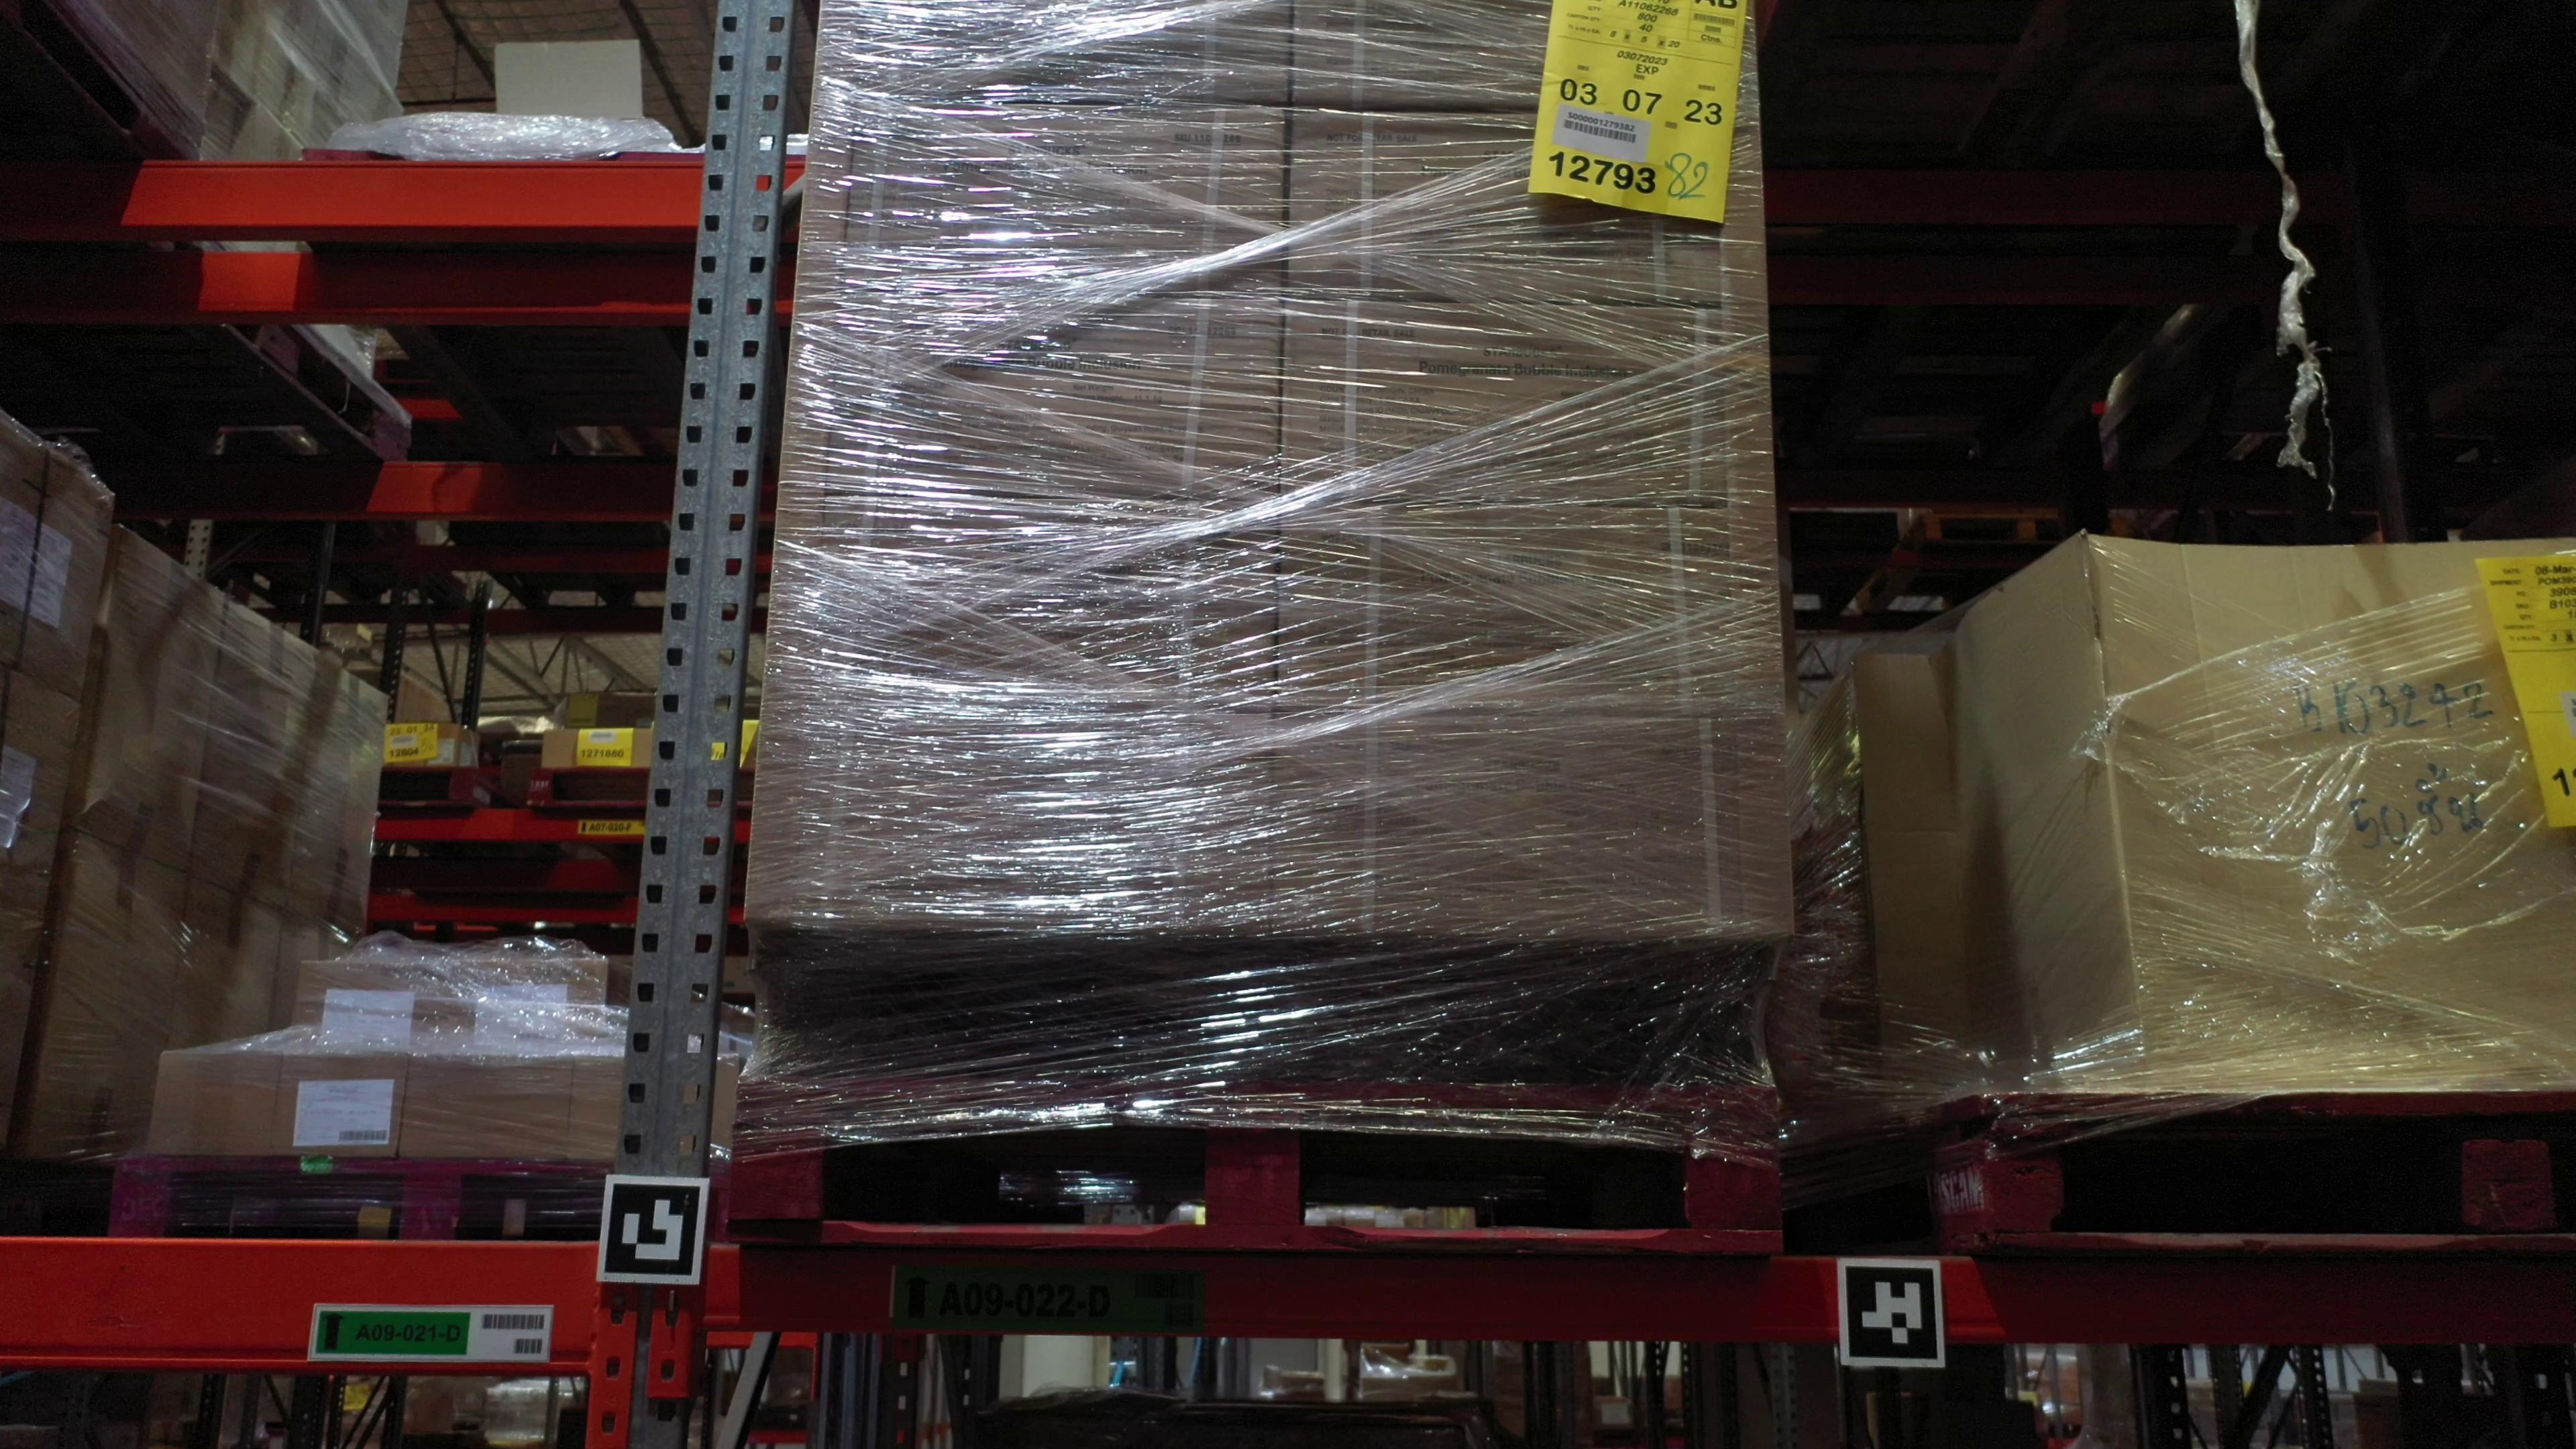-: (2086, 534, 2576, 1095), (743, 679, 1279, 934), (1272, 706, 1796, 941), (773, 281, 1286, 510), (763, 492, 1274, 711), (1272, 502, 1787, 715), (1274, 295, 1776, 508), (791, 87, 1288, 295), (1283, 104, 1766, 313), (563, 1053, 738, 1159), (398, 1054, 573, 1159), (442, 959, 607, 1054), (288, 959, 451, 1054), (145, 1046, 281, 1157), (272, 1051, 410, 1159)
